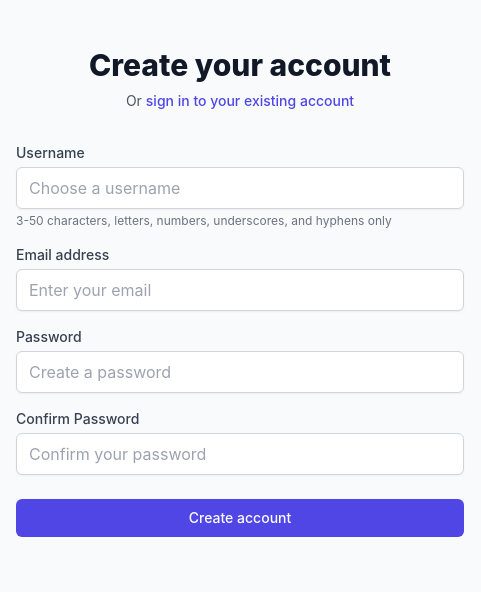
Scenario: Register Component › shows validation error for invalid username
In the field labelled "Username": (240, 188) [16, 167, 464, 209], type "ab"
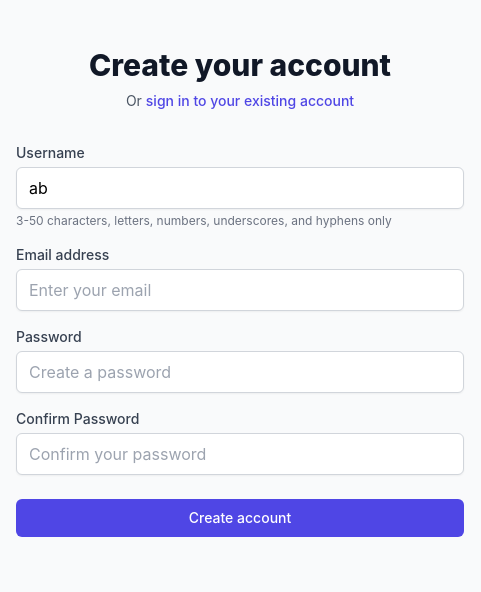
In the field labelled "Email address": (240, 290) [16, 269, 464, 311], type "test@example.com"
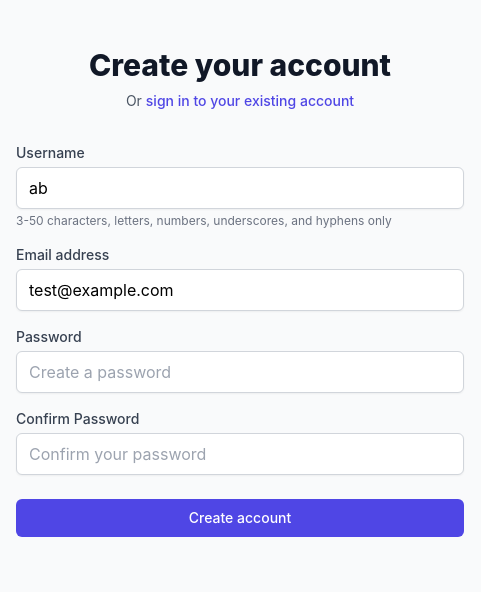
In the password field labelled "Password": (240, 372) [16, 351, 464, 393], type "password123"
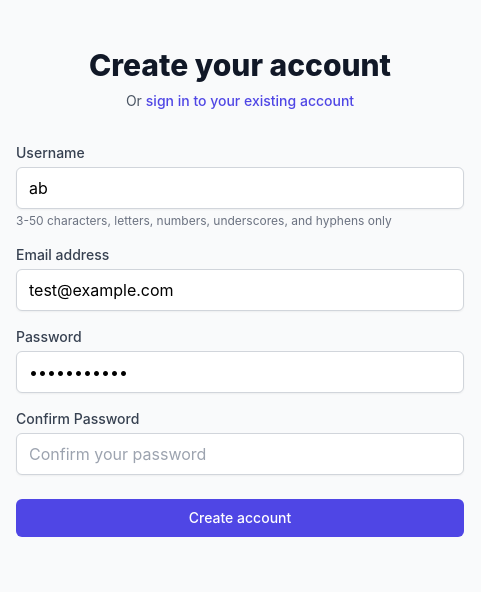
In the password field labelled "Confirm Password": (240, 454) [16, 433, 464, 475], type "password123"
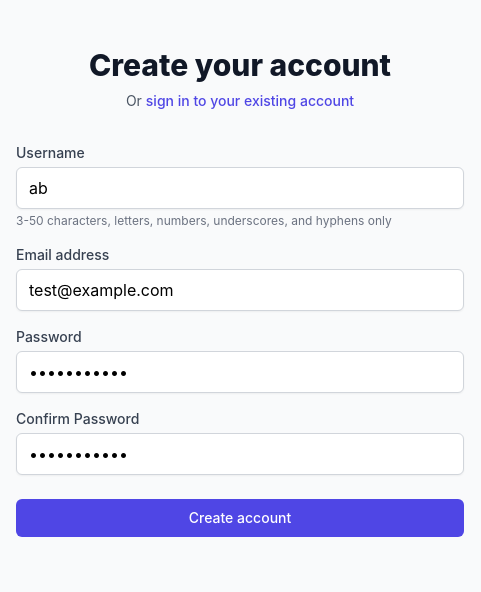
Click the button "Create account": (240, 518) [16, 499, 464, 537]
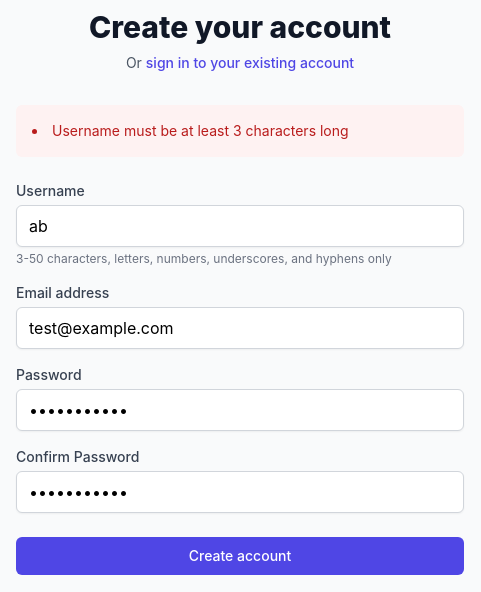
expect the list item "Username must be at least 3 characters long" is shown: met, box [52, 122, 349, 139]
